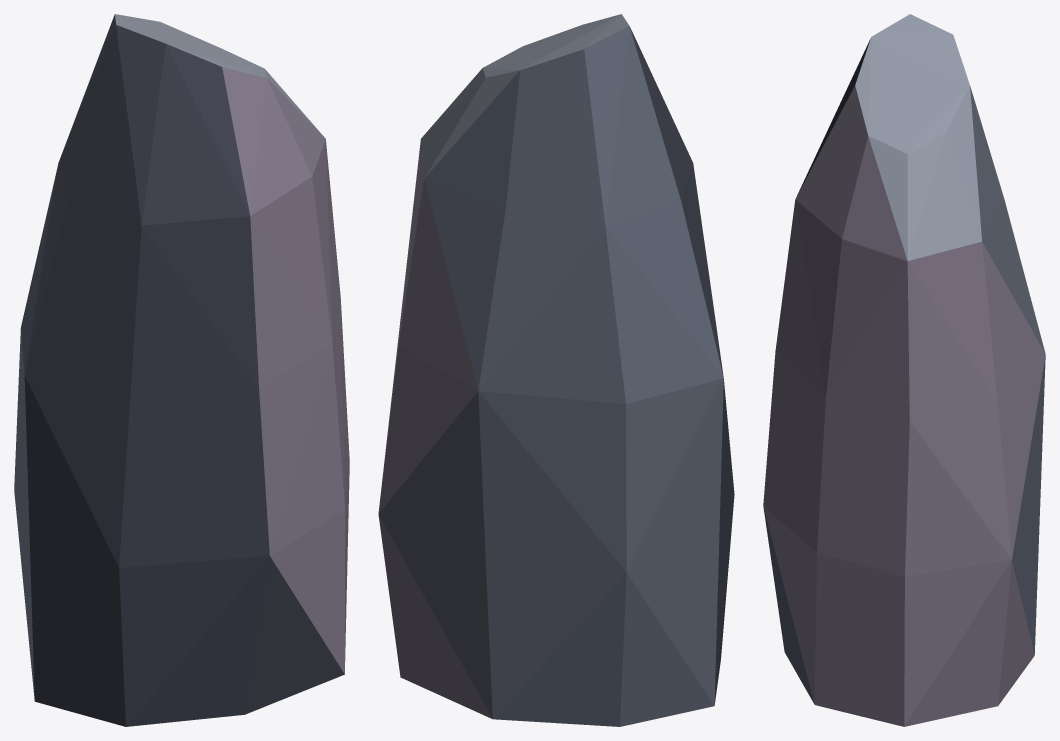
Rendered from TW_ROCK_UPRIGHT_A_LOD0.glb.
3 renders of one model, left to right at view 1: azimuth 30°, elevation 25°; view 2: azimuth 150°, elevation 25°; view 3: azimuth 270°, elevation 25°, orthographic. The views are drawn at different scales.
Visible parts, largest first — view 1: TW_ROCK_UPRIGHT_A_LOD0; view 2: TW_ROCK_UPRIGHT_A_LOD0; view 3: TW_ROCK_UPRIGHT_A_LOD0.
Boxes of the visible parts, left/top/right/bottom form: TW_ROCK_UPRIGHT_A_LOD0: left=14, top=14, right=349, bottom=726; TW_ROCK_UPRIGHT_A_LOD0: left=378, top=14, right=734, bottom=726; TW_ROCK_UPRIGHT_A_LOD0: left=763, top=14, right=1045, bottom=726.
Size of the model in its own units: 0.8 by 1.55 by 0.65.
Materials: 1 (1 with a texture image).
